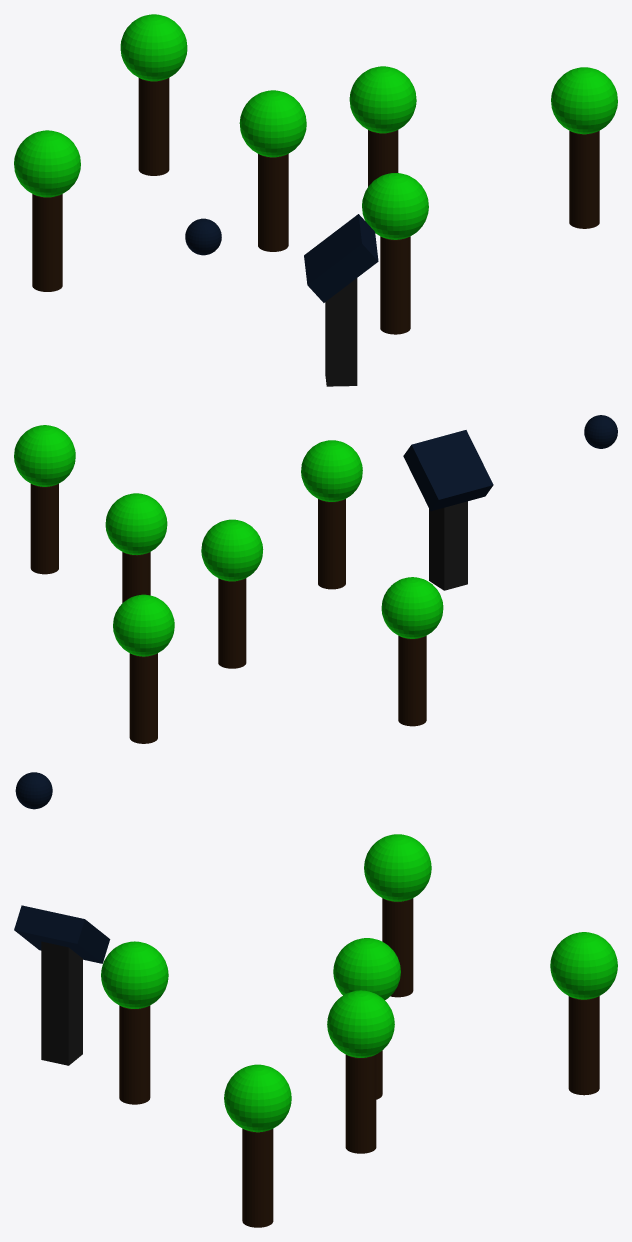
File: exercise20013.obj
3 renders of one model, top to bottom at view 1: azimuth 30°, elevation 25°; view 2: azimuth 150°, elevation 25°; view 3: azimuth 270°, elevation 25°, orthographic. The views are drawn at different scales.
Parts seen in each view (by area): view 1: Cube.001, Sphere, Sphere.005, Sphere.006, Sphere.002, Sphere.003, Sphere.004, Cube, Cylinder.005, Cylinder.004, Cylinder.003, Cylinder.002 (+4 smaller); view 2: Cube.001, Cube, Sphere.005, Sphere.002, Sphere, Sphere.006, Sphere.004, Sphere.003, Cylinder.002, Cylinder.005, Cylinder.006, Cylinder.003 (+4 smaller); view 3: Cube, Sphere.005, Sphere.003, Sphere, Sphere.004, Sphere.006, Sphere.002, Cube.001, Cylinder.004, Cylinder.003, Cylinder.005, Cylinder (+3 smaller).
Boxes of the visible parts, x1,y1,x2,y2 form: Cube.001: (304,214,378,302); Sphere: (349,66,416,133); Sphere.005: (120,14,187,81); Sphere.006: (14,130,80,197); Sphere.002: (239,90,306,157); Sphere.003: (551,67,617,134); Sphere.004: (362,173,428,239); Cube: (325,278,357,386); Cylinder.005: (138,78,169,175); Cylinder.004: (380,236,410,334); Cylinder.003: (569,131,599,228); Cylinder.002: (258,154,288,251); Cube.001: (403,430,493,511); Cube: (429,501,467,590); Sphere.005: (113,594,174,656); Sphere.002: (201,519,263,581); Sphere: (105,493,167,554); Sphere.006: (381,577,443,638); Sphere.004: (301,440,362,501); Sphere.003: (14,425,75,486); Cylinder.002: (218,578,246,668); Cylinder.005: (129,653,157,743); Cylinder.006: (398,635,426,726); Cylinder.003: (30,483,58,574); Cube: (41,941,82,1065); Sphere.005: (550,932,617,999); Sphere.003: (224,1064,291,1132); Sphere: (327,990,394,1057); Sphere.004: (101,941,168,1008); Sphere.006: (364,834,431,901); Sphere.002: (333,938,400,999); Cube.001: (14,905,110,963); Cylinder.004: (119,1005,150,1104); Cylinder.003: (242,1128,273,1227); Cylinder.005: (568,996,599,1095); Cylinder: (346,1054,376,1153).
Size of what is drawn, in the model's own units: 40.53 by 14.91 by 39.13.
